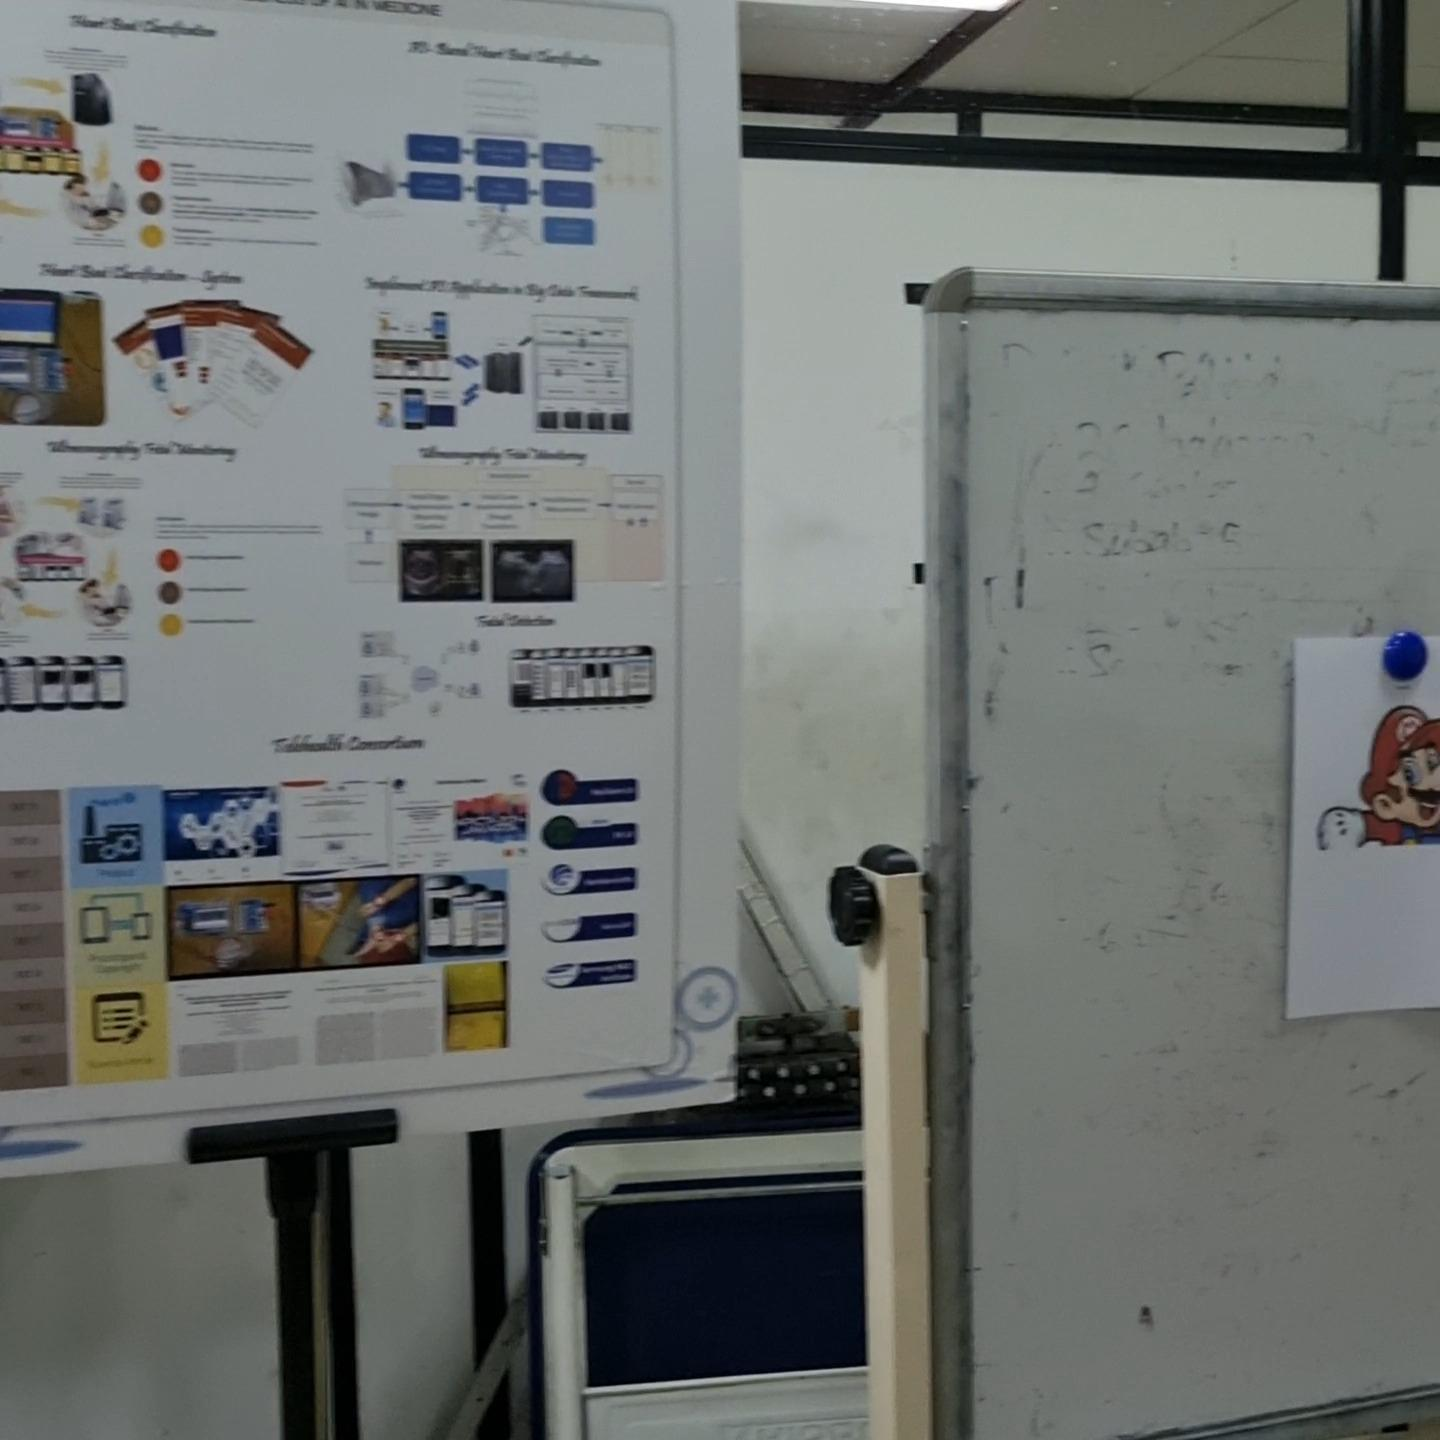mario: (1311, 698, 1440, 858)
